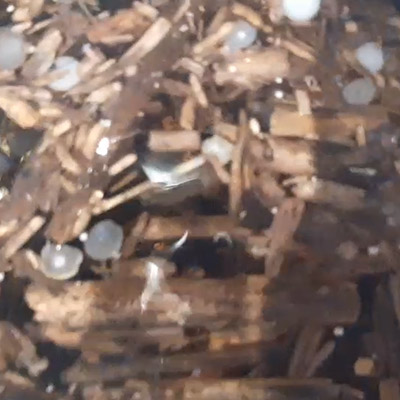nurdle: (41, 52, 88, 95), (35, 241, 88, 278), (82, 217, 122, 262), (215, 22, 267, 55), (199, 135, 239, 168), (351, 41, 386, 78), (342, 76, 379, 109), (278, 1, 325, 22)
